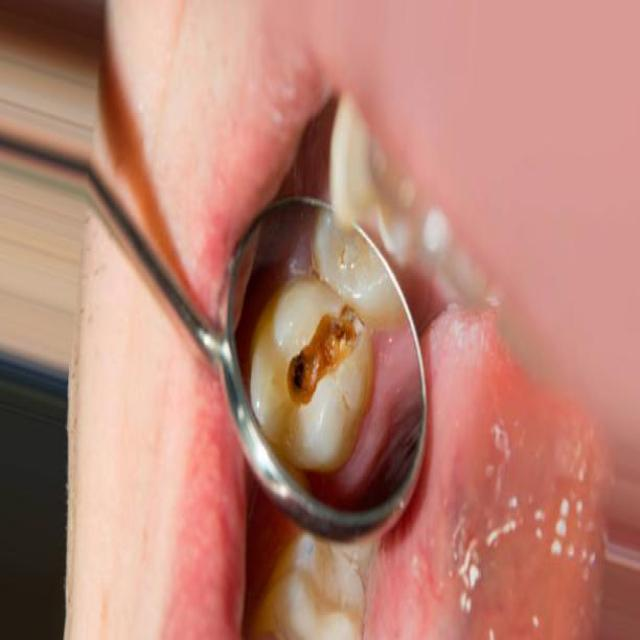caries: (287, 299, 375, 413)
